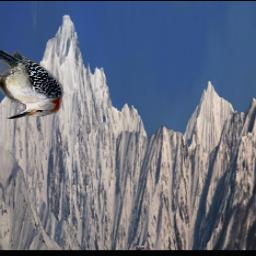Woodpecker: (0, 51, 63, 119)
